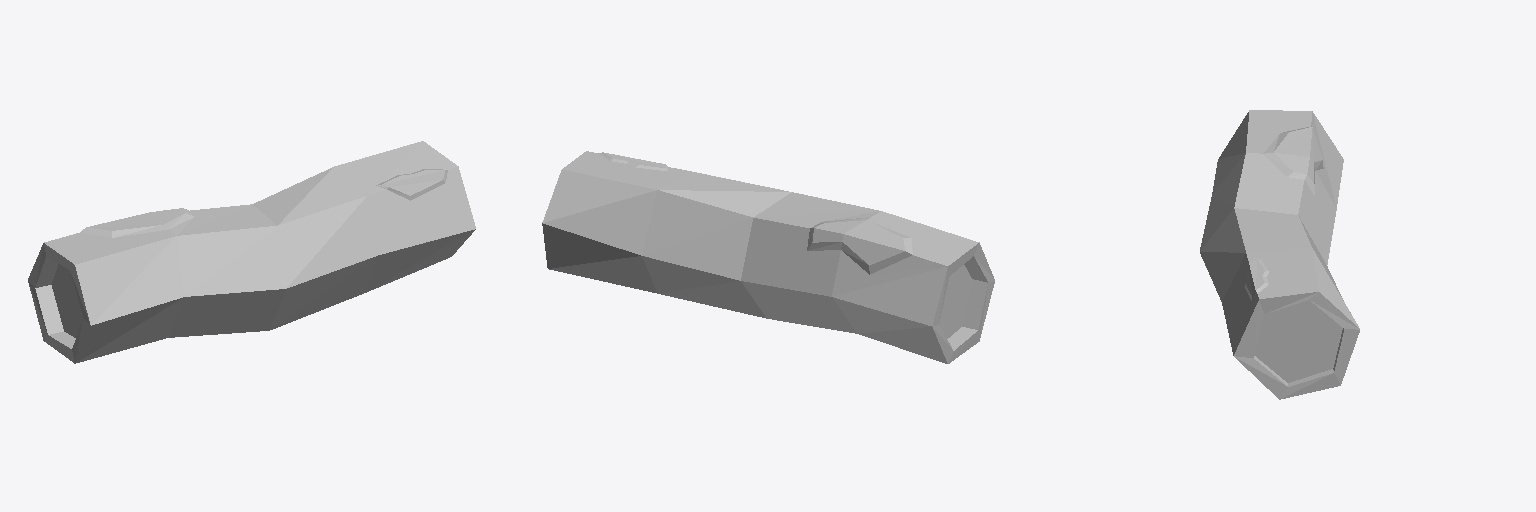
File: Log3Moss.obj
3 views of the same model, side by side, from view 1: azimuth 30°, elevation 25°; view 2: azimuth 150°, elevation 25°; view 3: azimuth 270°, elevation 25° (orthographic).
Parts seen in each view (by area): view 1: Log_2_Moss_Cylinder.031; view 2: Log_2_Moss_Cylinder.031; view 3: Log_2_Moss_Cylinder.031.
Part boxes in pixels (x1,y1,x2,y2): Log_2_Moss_Cylinder.031: (28,141,475,363); Log_2_Moss_Cylinder.031: (542,151,994,363); Log_2_Moss_Cylinder.031: (1200,110,1359,399).
Bounding box in the file's own units: 7.23 × 1.99 × 2.56.